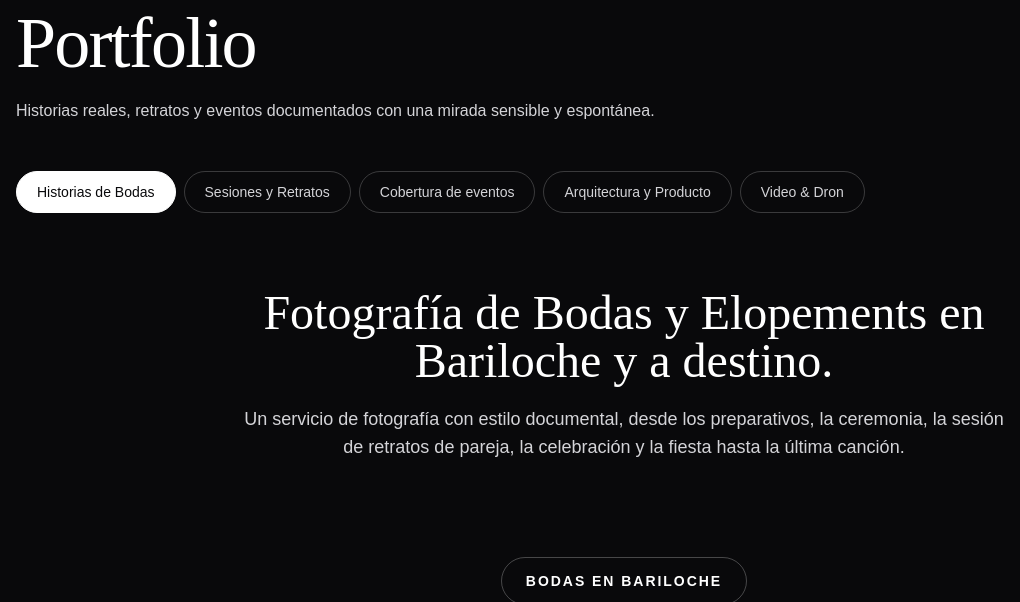
Test: Portfolio › renders only the active category content
Click the tab "Sesiones y Retratos" at (267, 192), box 184,171 -> 351,213
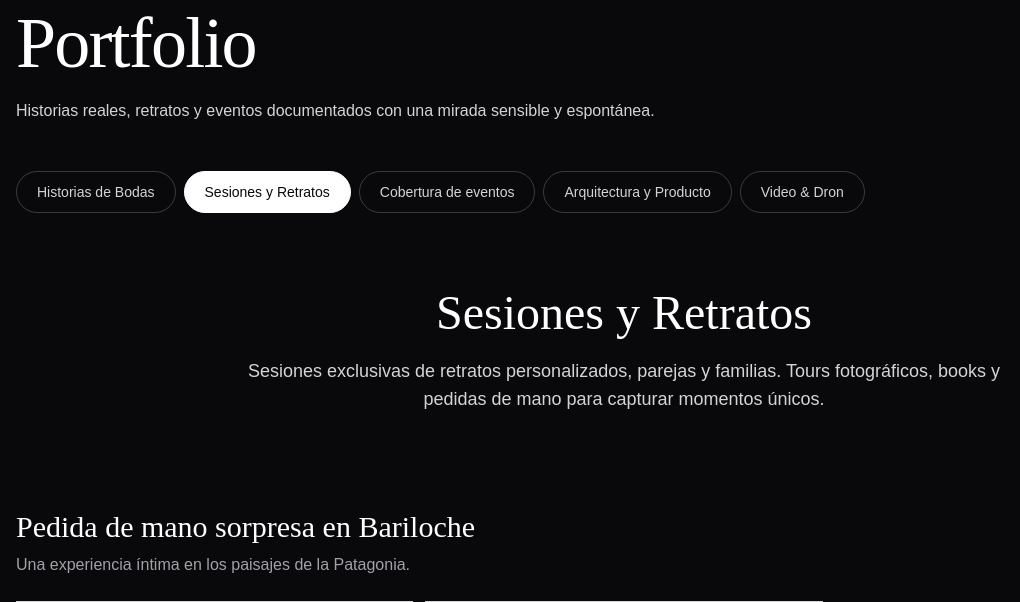
Expected: the text "tours fotográficos, books y pedidas de mano" is shown, 248,361 -> 1000,409
